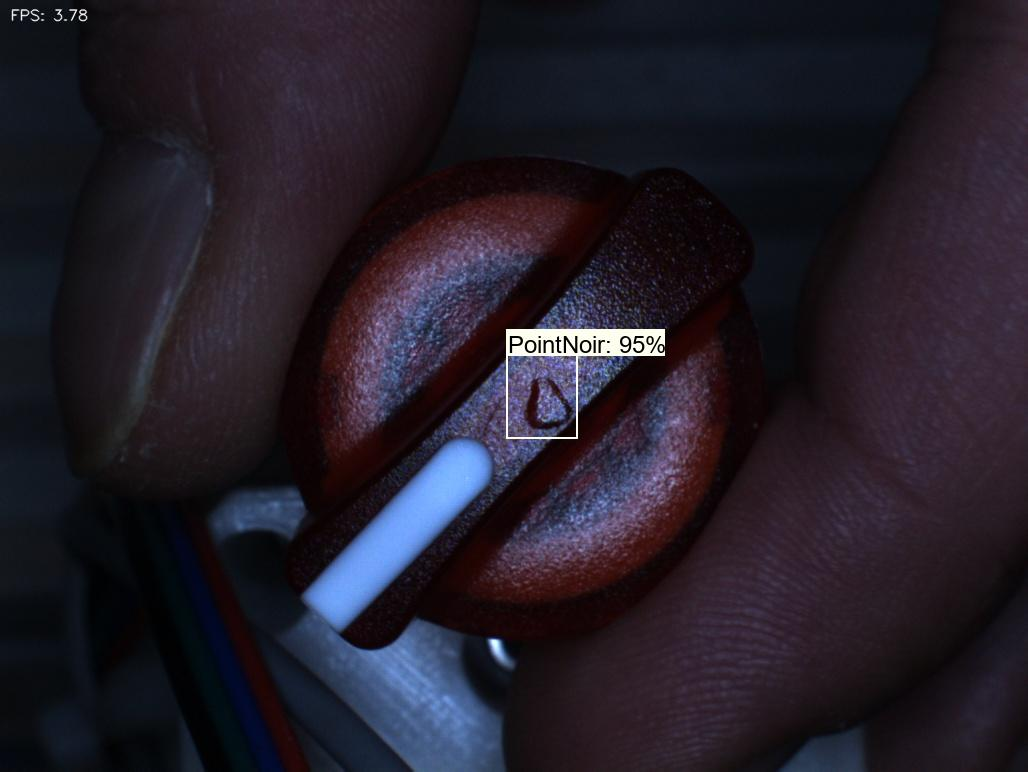Choc: (508, 368, 592, 449)
